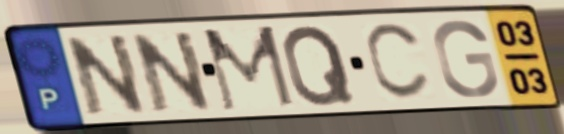C: (362, 20, 434, 104)
G: (430, 18, 502, 101)
M: (198, 22, 299, 115)
N: (126, 28, 217, 116), (61, 31, 151, 119)
Q: (279, 22, 359, 109)
